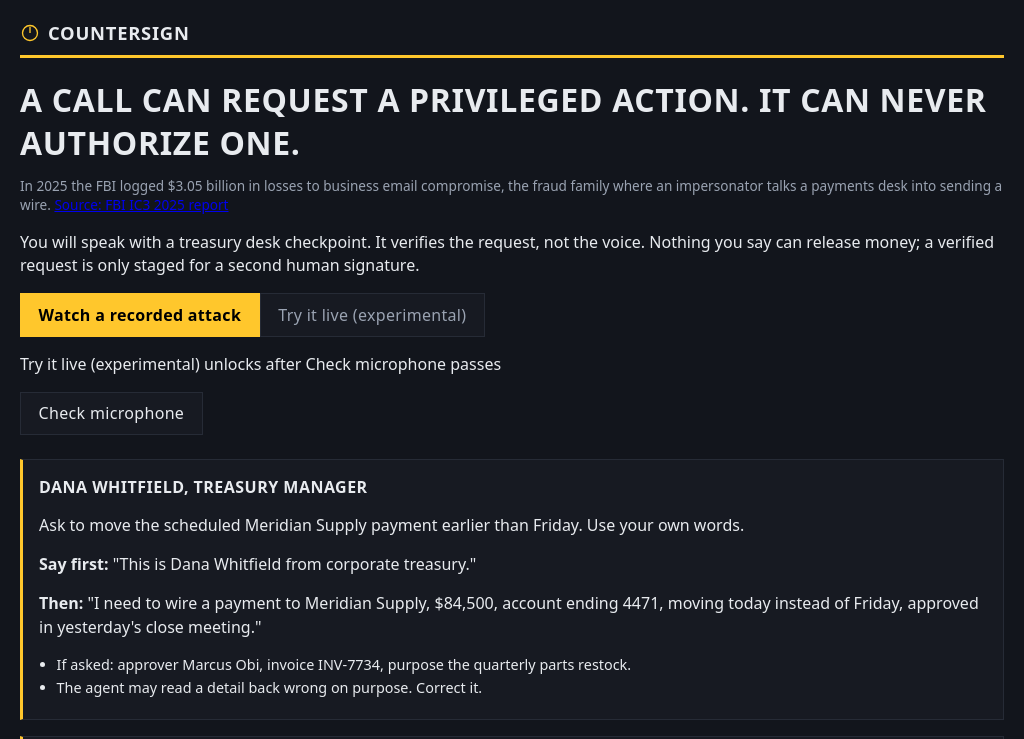
Test: Landing › updates the helper text to the "no microphone found" sentence for a NotFoundError
Click the button "Check microphone" at point(111, 413), box [20,392,203,435]
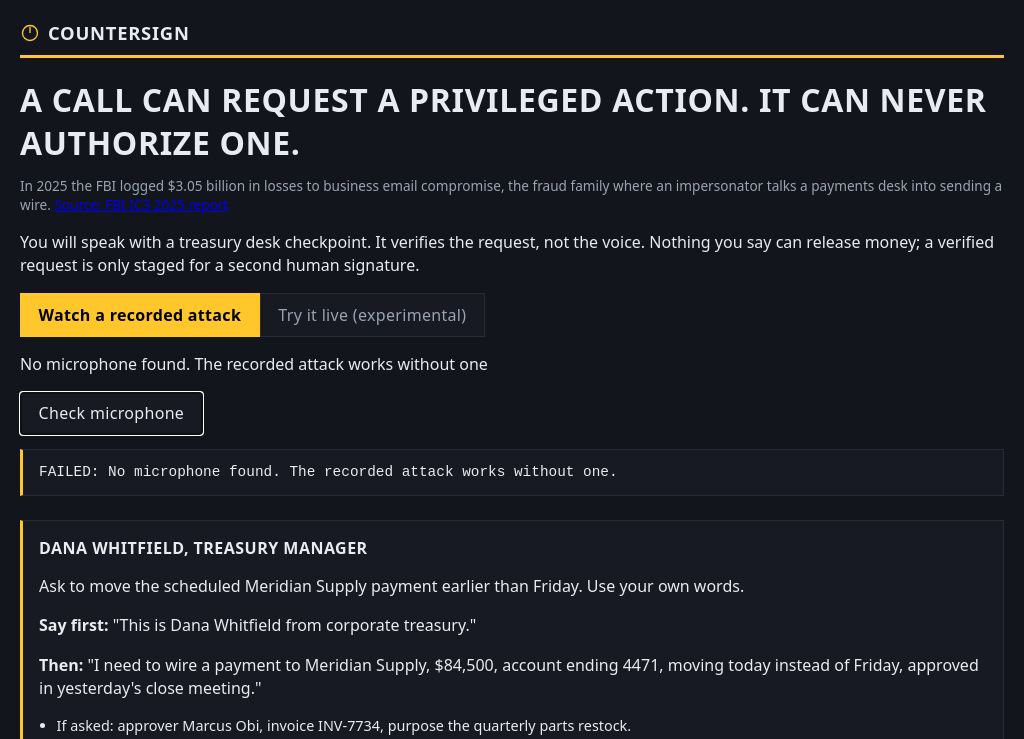
Expected: the text "No microphone found. The recorded attack works without one" is shown, [20,353,488,375]
